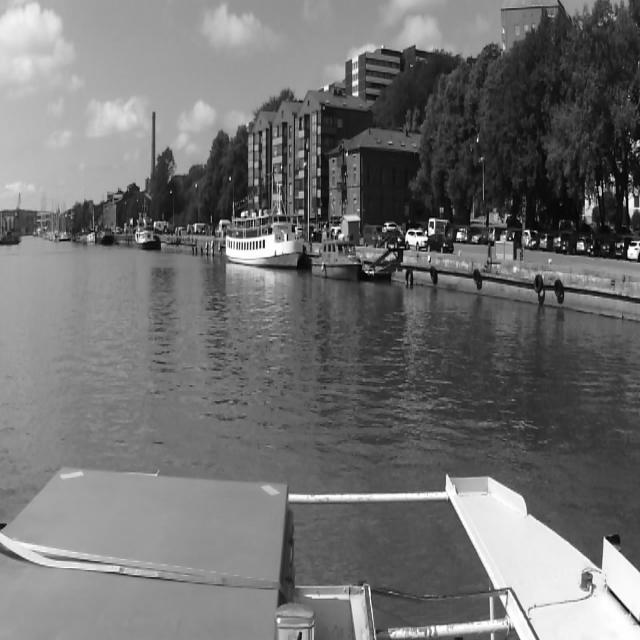ship: (225, 216, 302, 269), (313, 244, 361, 280), (360, 262, 392, 284), (136, 226, 162, 250), (97, 230, 115, 243)
